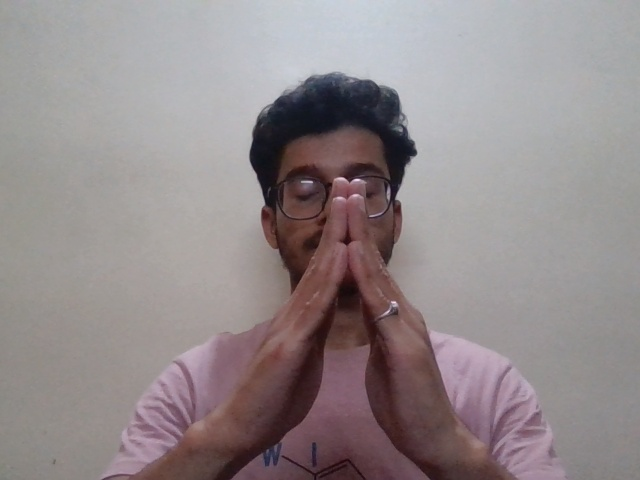home: (211, 165, 484, 459)
